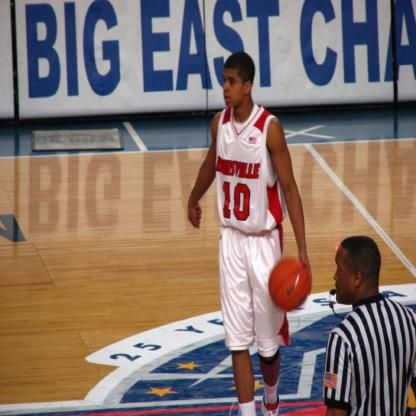Ball: (268, 257, 312, 313)
